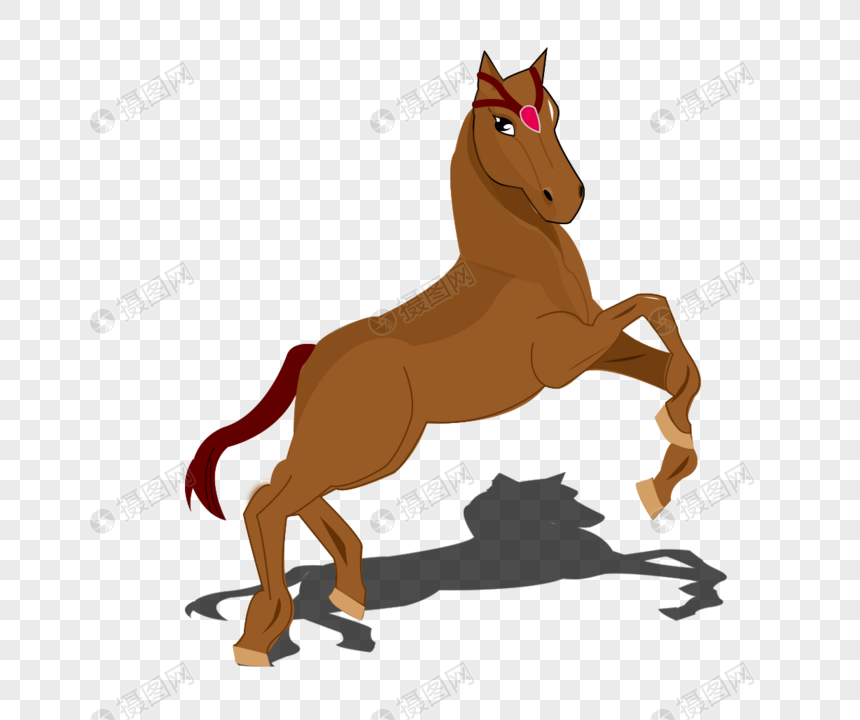background: (123, 38, 738, 680)
